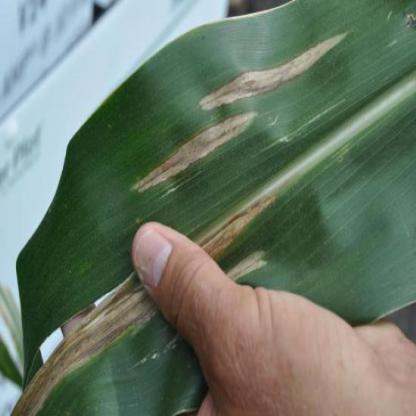corn leaf blight: (69, 8, 396, 221)
